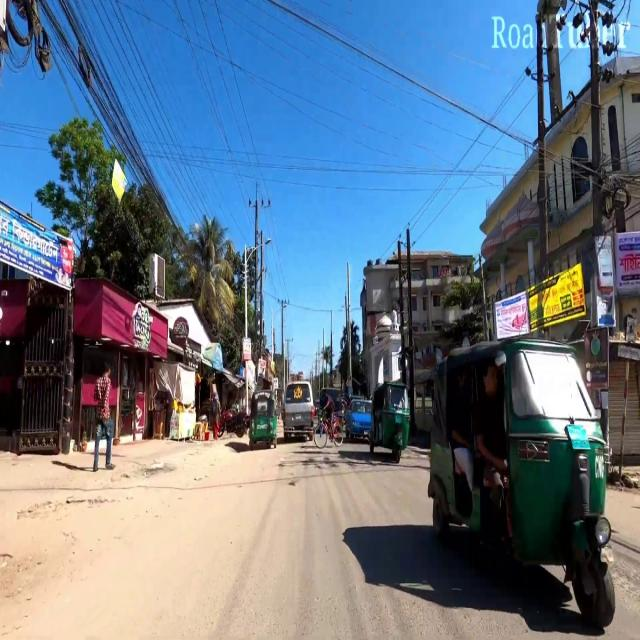blue: (345, 398, 371, 438)
silver: (284, 379, 314, 438)
